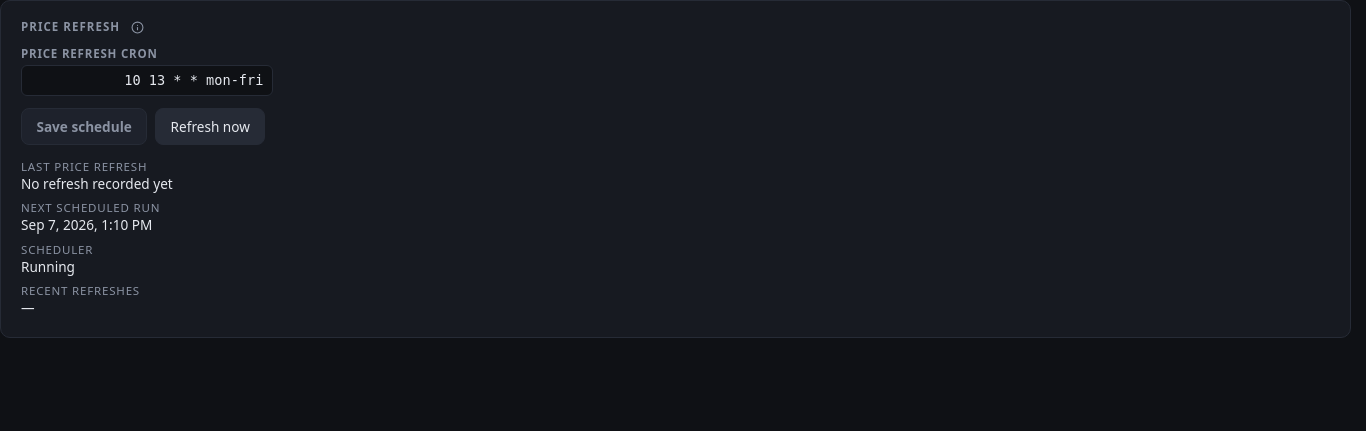
Test: PriceRefreshCard › renders a refused save and a failed refresh verbatim
Replace the text in the field labelled "Price refresh cron" with "30 14 * * mon-fri" at (147, 80), box [21, 65, 273, 96]
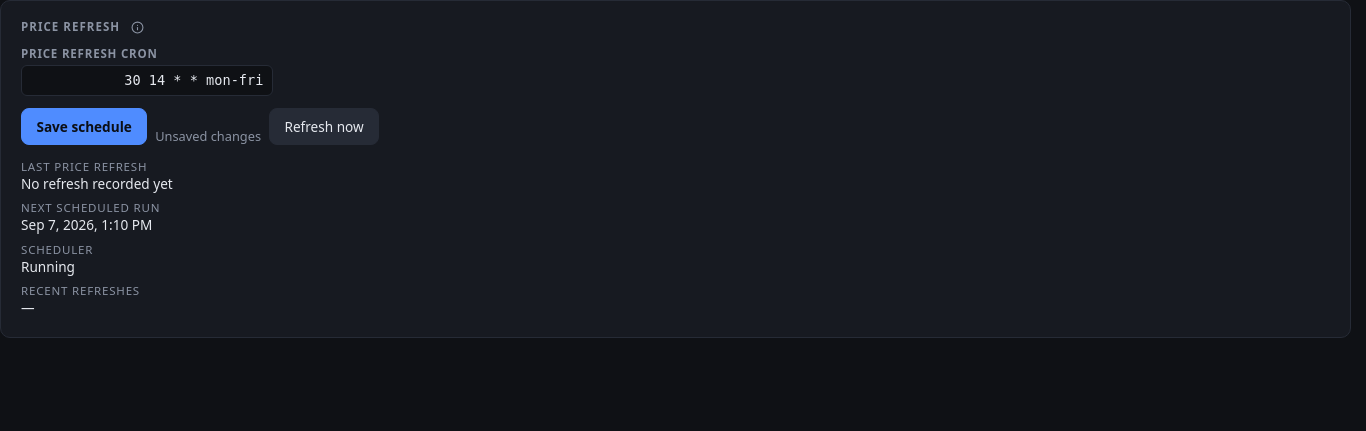
Click the button "Save schedule" at (84, 126), box [21, 108, 147, 145]
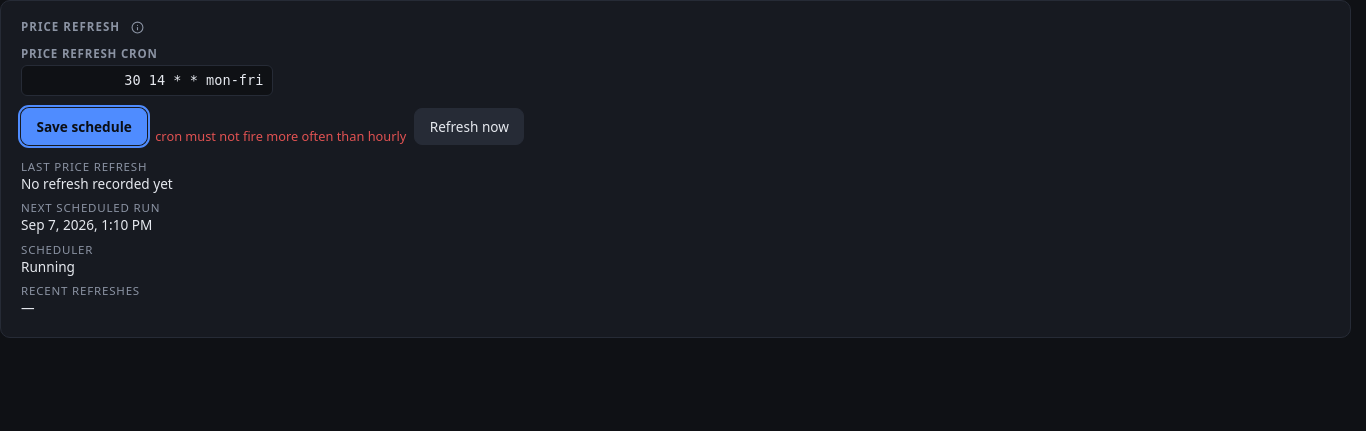
Expected: the text "Saved" is not shown
Result: the text "cron must not fire more often than hourly" is shown at [155, 128, 406, 145]
Click the button "Refresh now" at (469, 126), box [414, 108, 524, 145]
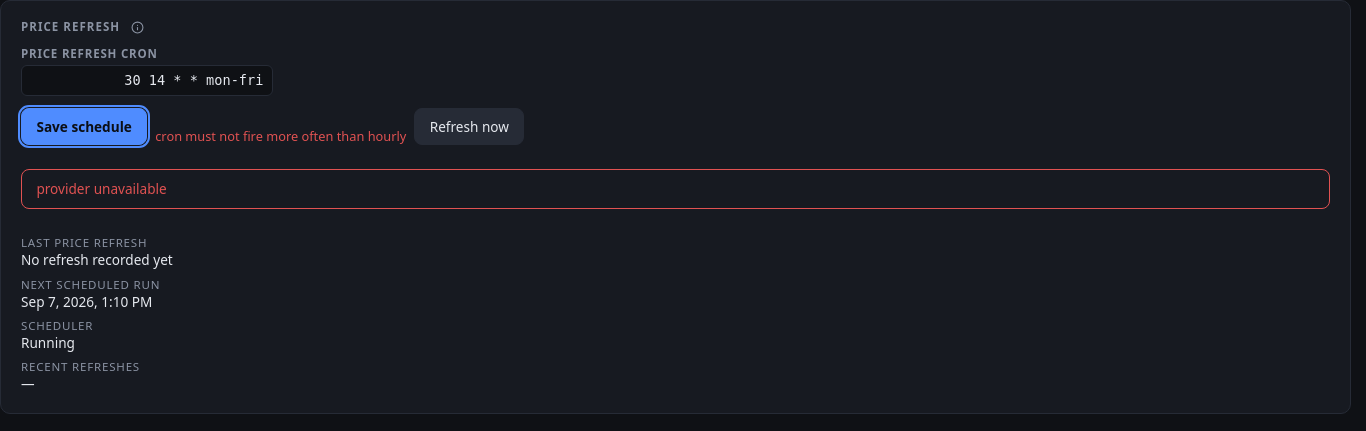
Result: the text "provider unavailable" is shown at [21, 169, 1330, 209]
